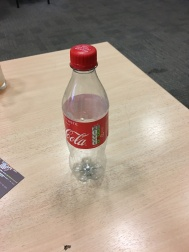bottle_red: (56, 39, 118, 189)
